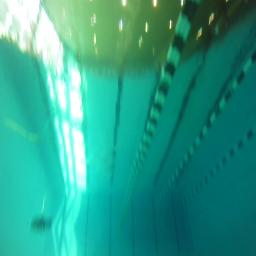Full: (31, 216, 52, 234)
